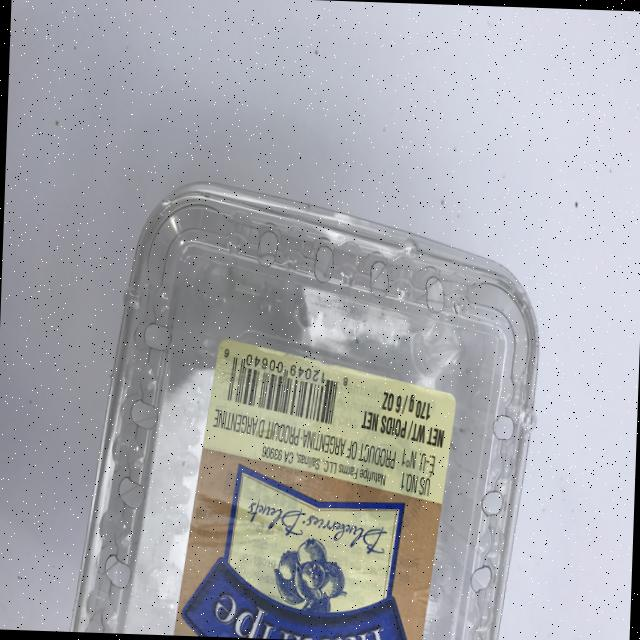plastic: (69, 176, 545, 640)
